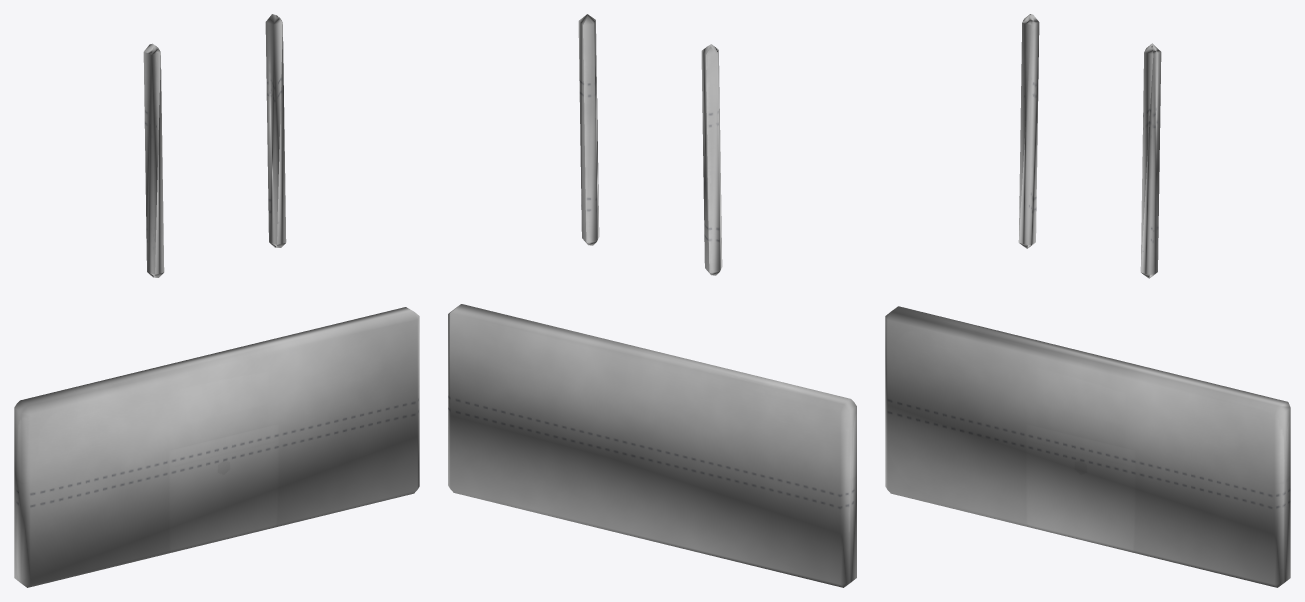
Rendered from UpperTorso_C2.fbx.
3 views of the same model, side by side, from view 1: azimuth 30°, elevation 25°; view 2: azimuth 150°, elevation 25°; view 3: azimuth 330°, elevation 25° (orthographic).
Visible parts, largest first — view 1: Civ_BuzoCapucha_UpperTorso_C2; view 2: Civ_BuzoCapucha_UpperTorso_C2; view 3: Civ_BuzoCapucha_UpperTorso_C2.
Boxes of the visible parts, x1,y1,x2,y2 form: Civ_BuzoCapucha_UpperTorso_C2: [14, 14, 419, 587]; Civ_BuzoCapucha_UpperTorso_C2: [448, 14, 856, 587]; Civ_BuzoCapucha_UpperTorso_C2: [885, 14, 1290, 587].
Bounding box in the file's own units: 1.17 × 1.42 × 0.0762.
